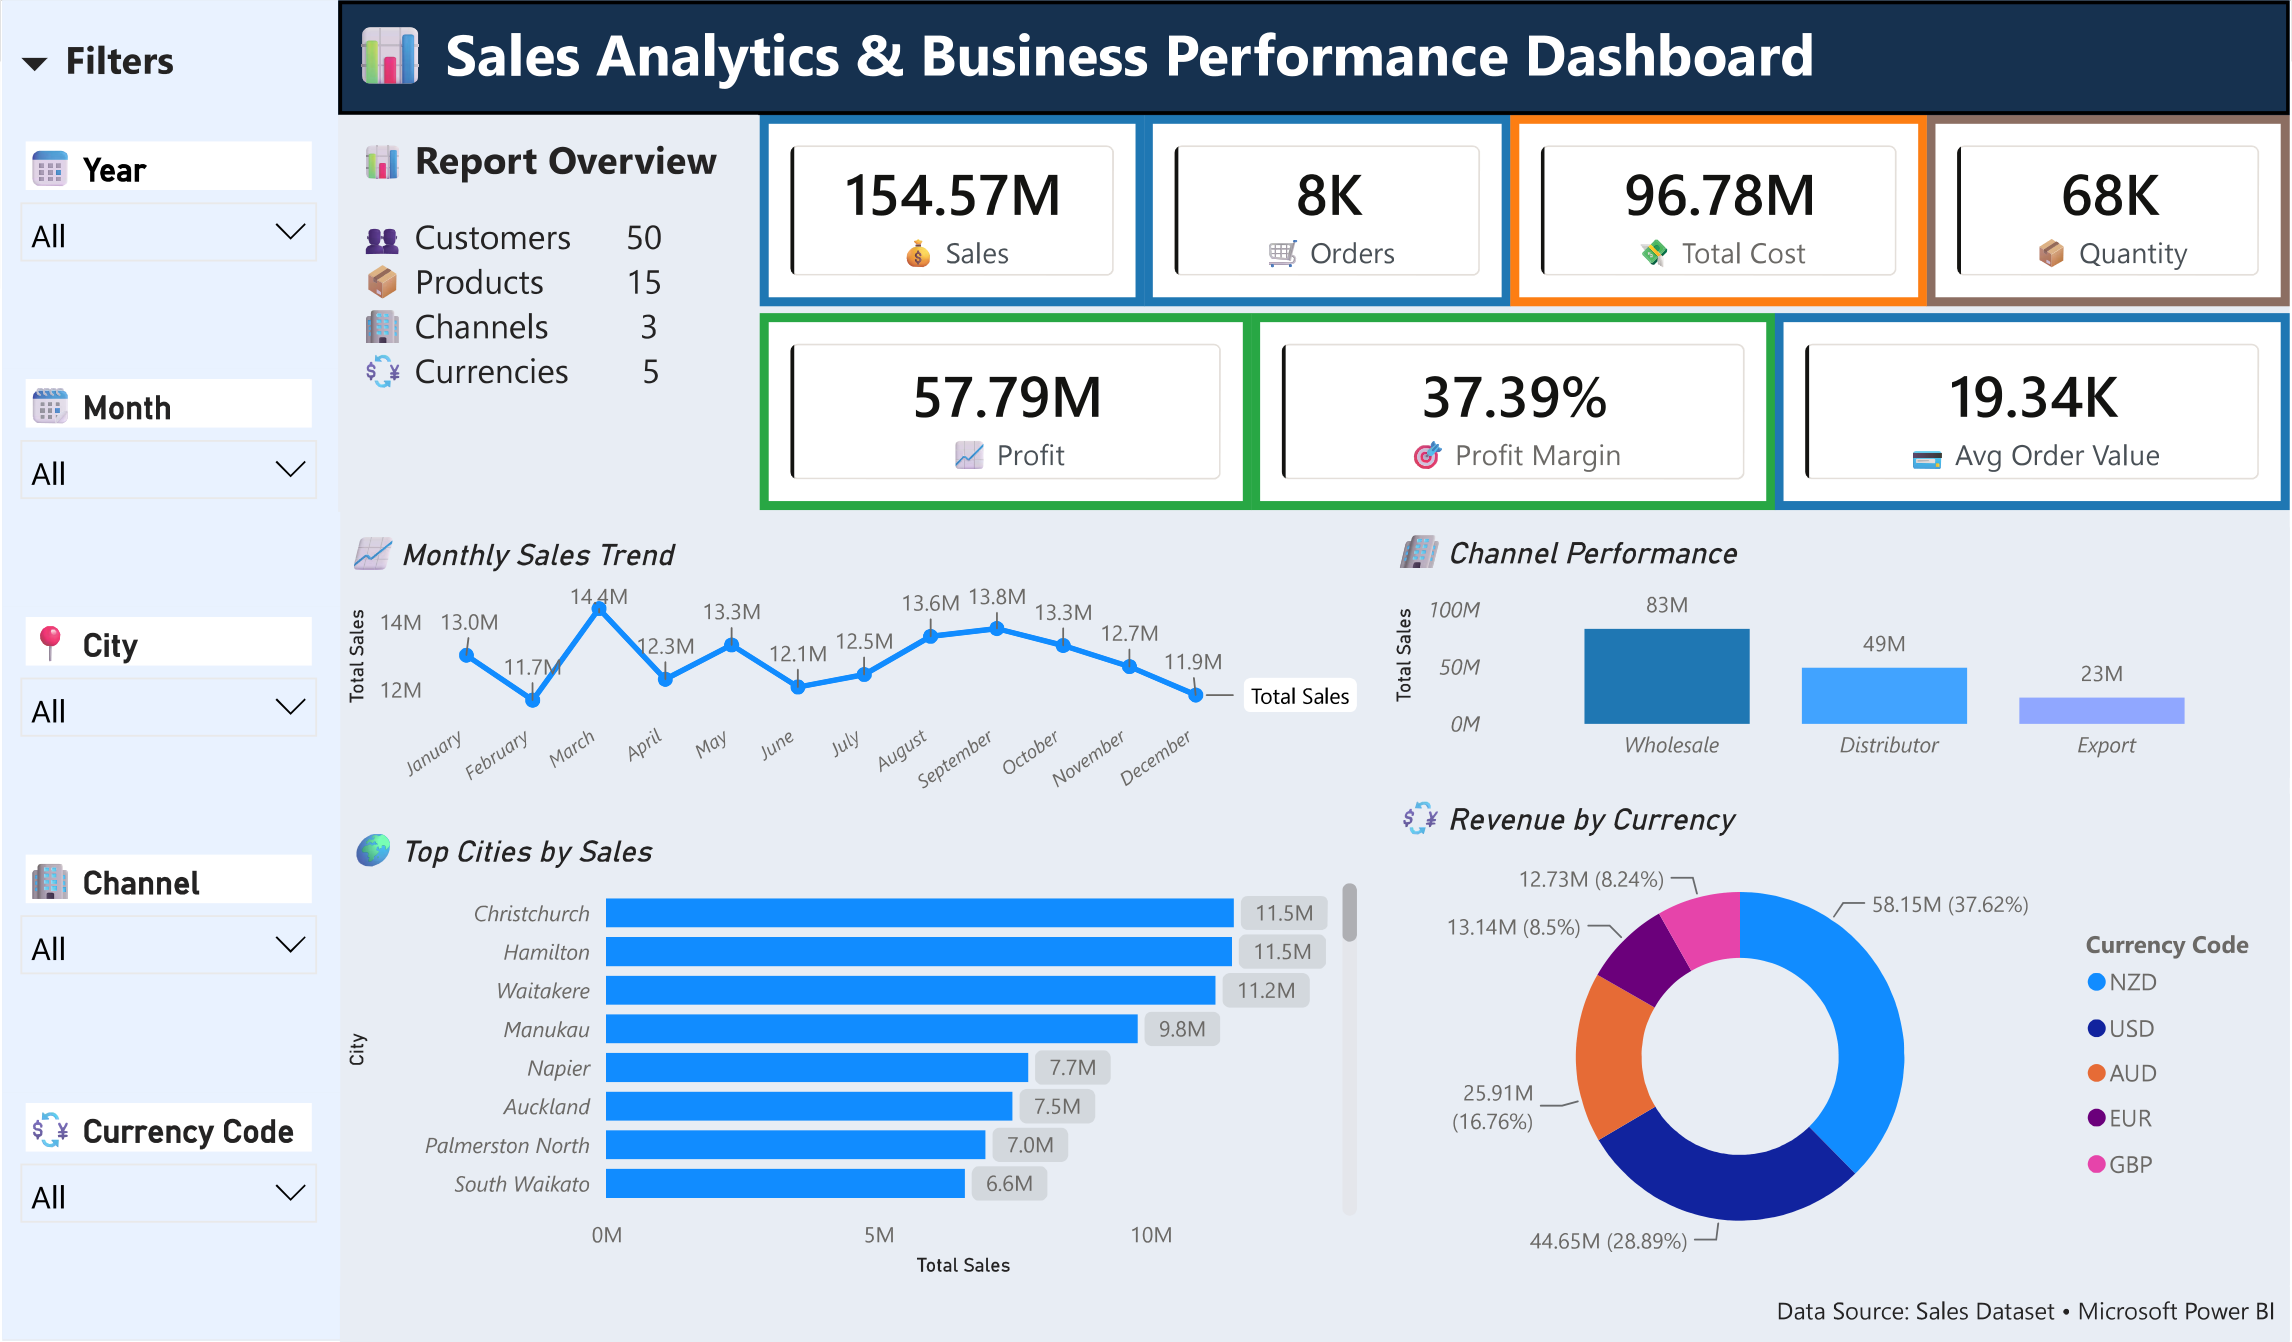

This screenshot's page, from the dashboard's own definition file:
{"tool":"powerbi","page":{"name":"Page 1","canvas":[1280,750],"ordinal":0},"visuals":[{"type":"cardVisual","fields":{"Data":["KPI_Measures.Total Sales"]},"box":[423.6,63.8,215.9,107.3],"z":0},{"type":"cardVisual","fields":{"Data":["KPI_Measures.Total Orders"]},"box":[639.5,63.8,205,107.3],"z":1000},{"type":"cardVisual","fields":{"Data":["KPI_Measures.Total Quantity"]},"box":[1076.6,63.8,203.6,107.3],"z":2000},{"type":"cardVisual","fields":{"Data":["KPI_Measures.Total Cost"]},"box":[844.5,63.8,232.2,107.3],"z":3000},{"type":"cardVisual","fields":{"Data":["KPI_Measures.Profit"]},"box":[423.6,175.1,275.6,110],"z":4000},{"type":"cardVisual","fields":{"Data":["KPI_Measures.Profit Margin %"]},"box":[699.2,175.1,293.3,110],"z":5000},{"type":"cardVisual","fields":{"Data":["KPI_Measures.Avg Order Value"]},"box":[992.5,175.1,287.8,110],"z":6000},{"type":"lineChart","title":"📈 Monthly Sales Trend","fields":{"Y":["KPI_Measures.Total Sales"],"Category":["Calendar.Date.Variation.Date Hierarchy.Month"]},"box":[188.3,295.9,574.2,158.7],"z":7000},{"type":"clusteredColumnChart","title":"🏢 Channel Performance","fields":{"Category":["Sales Orders.Channel"],"Y":["KPI_Measures.Total Sales"]},"box":[773.6,295.3,506.7,139.5],"z":8000},{"type":"clusteredBarChart","title":"🌍 Top Cities by Sales","fields":{"Category":["Regions.City"],"Y":["KPI_Measures.Total Sales"]},"box":[188.3,462,574.4,257.4],"z":9000},{"type":"donutChart","title":"💱 Revenue by Currency","fields":{"Category":["Sales Orders.Currency Code"],"Y":["KPI_Measures.Total Sales"]},"box":[773.6,444.4,506.7,275],"z":10000},{"type":"slicer","fields":{"Values":["Calendar.Year"]},"box":[0,73.3,188.7,133.1],"z":11000},{"type":"slicer","fields":{"Values":["Calendar.Month"]},"box":[0,206.4,188.7,133.1],"z":12000},{"type":"slicer","fields":{"Values":["Sales Orders.Channel"]},"box":[0,472.5,188.7,138.5],"z":13000},{"type":"slicer","fields":{"Values":["Regions.City"]},"box":[0,339.4,188.7,133.1],"z":14000},{"type":"slicer","fields":{"Values":["Sales Orders.Currency Code"]},"box":[0,610.9,188.7,138.5],"z":15000},{"type":"textbox","box":[0,0,188.7,73.3],"z":16000},{"type":"textbox","box":[188.3,0,1092,63.7],"z":17000},{"type":"shape","box":[188.3,70.4,214.1,192.4],"z":18000},{"type":"textbox","box":[188.3,63.7,234.4,222.2],"z":19000},{"type":"textbox","box":[188.7,719.6,1091.6,31.2],"z":20000}]}

Visuals, with their boxes on the page's 1280x750 design canvas (x1, y1, x2, y2). These are canvas units, not pixel positions in the 2292x1342 screenshot, which may show the page scaled, cropped or inside an application window:
cardVisual - KPI_Measures.Total Sales: {"x1": 424, "y1": 64, "x2": 640, "y2": 171}
cardVisual - KPI_Measures.Total Orders: {"x1": 640, "y1": 64, "x2": 844, "y2": 171}
cardVisual - KPI_Measures.Total Quantity: {"x1": 1077, "y1": 64, "x2": 1280, "y2": 171}
cardVisual - KPI_Measures.Total Cost: {"x1": 844, "y1": 64, "x2": 1077, "y2": 171}
cardVisual - KPI_Measures.Profit: {"x1": 424, "y1": 175, "x2": 699, "y2": 285}
cardVisual - KPI_Measures.Profit Margin %: {"x1": 699, "y1": 175, "x2": 992, "y2": 285}
cardVisual - KPI_Measures.Avg Order Value: {"x1": 992, "y1": 175, "x2": 1280, "y2": 285}
"📈 Monthly Sales Trend" lineChart: {"x1": 188, "y1": 296, "x2": 762, "y2": 455}
"🏢 Channel Performance" clusteredColumnChart: {"x1": 774, "y1": 295, "x2": 1280, "y2": 435}
"🌍 Top Cities by Sales" clusteredBarChart: {"x1": 188, "y1": 462, "x2": 763, "y2": 719}
"💱 Revenue by Currency" donutChart: {"x1": 774, "y1": 444, "x2": 1280, "y2": 719}
slicer - Calendar.Year: {"x1": 0, "y1": 73, "x2": 189, "y2": 206}
slicer - Calendar.Month: {"x1": 0, "y1": 206, "x2": 189, "y2": 340}
slicer - Sales Orders.Channel: {"x1": 0, "y1": 472, "x2": 189, "y2": 611}
slicer - Regions.City: {"x1": 0, "y1": 339, "x2": 189, "y2": 472}
slicer - Sales Orders.Currency Code: {"x1": 0, "y1": 611, "x2": 189, "y2": 749}
textbox: {"x1": 0, "y1": 0, "x2": 189, "y2": 73}
textbox: {"x1": 188, "y1": 0, "x2": 1280, "y2": 64}
shape: {"x1": 188, "y1": 70, "x2": 402, "y2": 263}
textbox: {"x1": 188, "y1": 64, "x2": 423, "y2": 286}
textbox: {"x1": 189, "y1": 720, "x2": 1280, "y2": 751}
